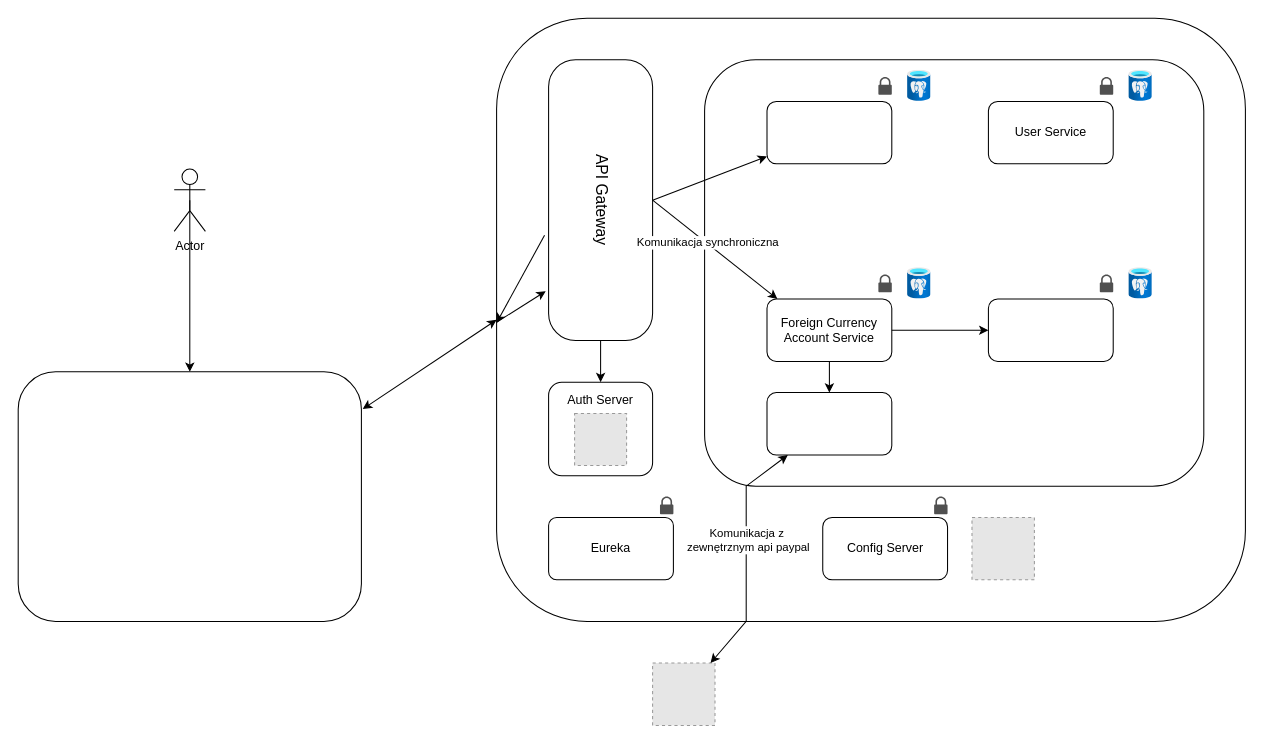
The diagram is 1264 pixels wide and 744 high, and some of its shapes have lost their labels. Grey dashed boxes stand in for pictures. The box of each missing label's shape, as (x1, y1, x2, y2) in pixels:
Currency Service: (766, 100, 892, 164)
Frontend: (17, 371, 361, 621)
Paypal Service: (766, 392, 892, 455)
Transaction Service: (987, 298, 1113, 361)
